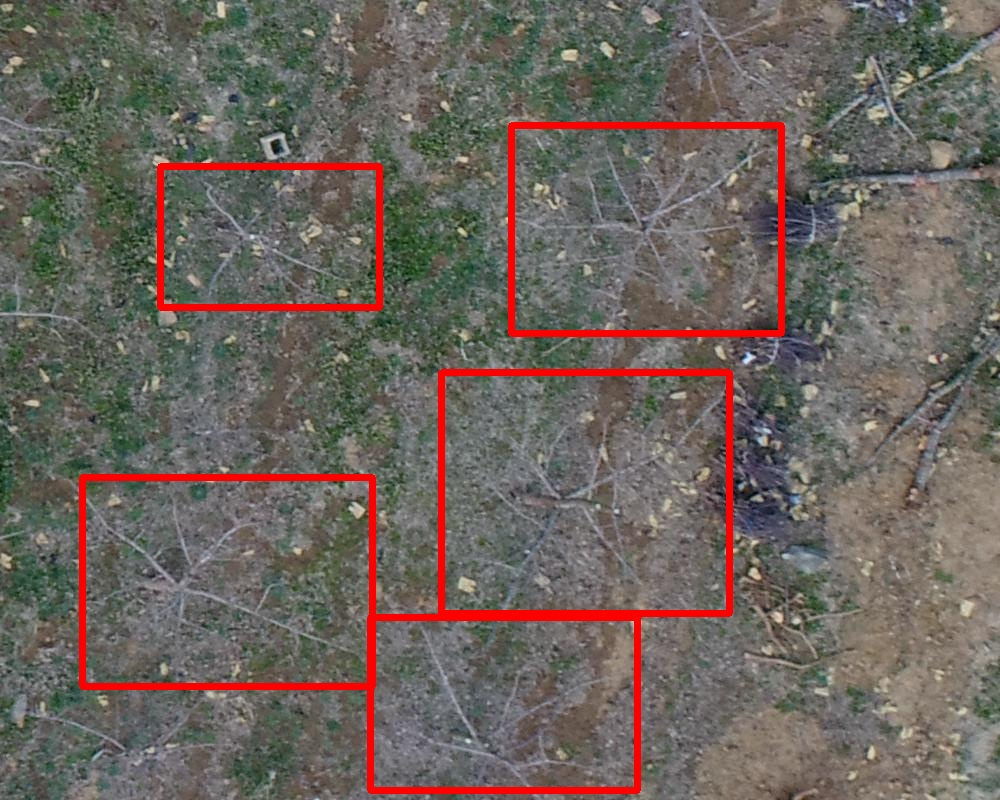apple: (441, 372, 729, 613), (82, 477, 372, 686), (511, 125, 781, 333), (370, 617, 637, 790), (160, 166, 379, 307)
